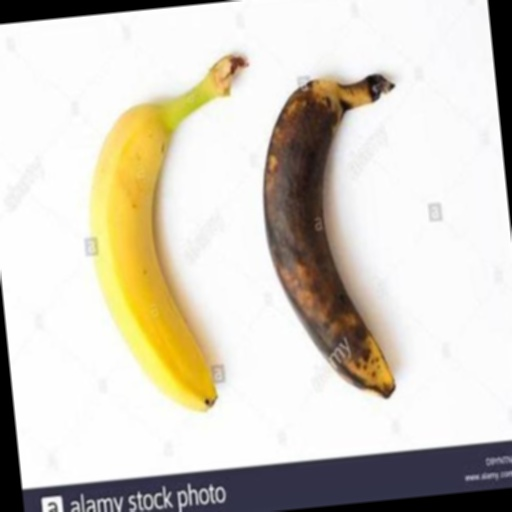fruit: (107, 81, 439, 448), (35, 101, 157, 374)
